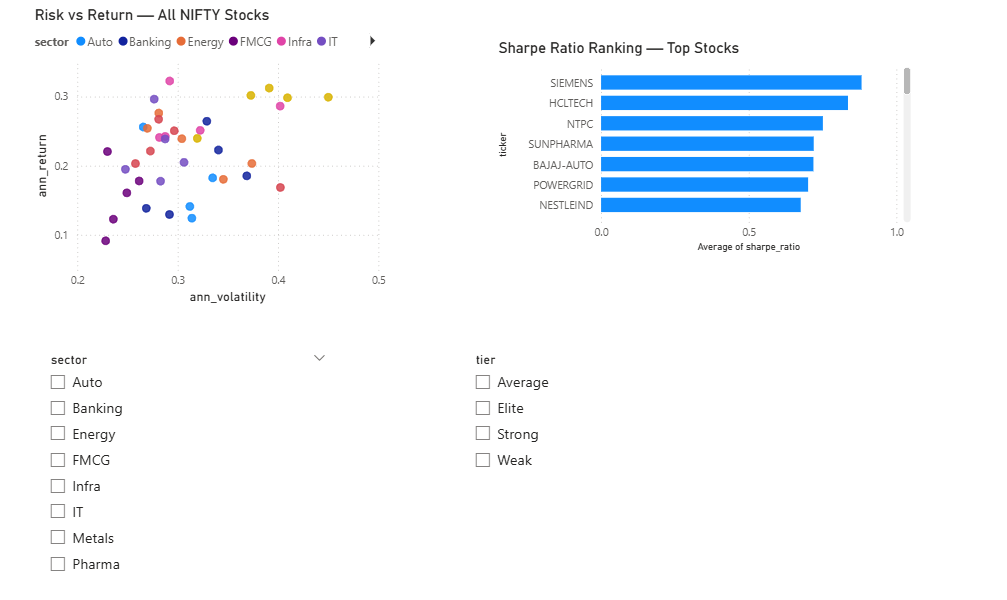

The page's visual inventory and layout, read from the dashboard file:
{"tool":"powerbi","page":{"name":"Page 2","canvas":[1280,720],"ordinal":1},"visuals":[{"type":"scatterChart","title":"Risk vs Return — All NIFTY Stocks","fields":{"X":["stock_metrics.ann_volatility"],"Y":["stock_metrics.ann_return"],"Series":["stock_metrics.sector"]},"box":[62.8,22.3,402.1,337.9],"z":0},{"type":"barChart","title":"Sharpe Ratio Ranking — Top Stocks","fields":{"Category":["stock_metrics.ticker"],"Y":["Avg(stock_metrics.sharpe_ratio)"]},"box":[580.4,59,470.7,244.3],"z":1000},{"type":"slicer","fields":{"Values":["stock_metrics.sector"]},"box":[72.7,403.4,332.1,269],"z":2000},{"type":"slicer","fields":{"Values":["stock_metrics.tier"]},"box":[547.5,403.4,332.1,269],"z":3000}]}

Visuals, with their boxes on the page's 1280x720 design canvas (x1, y1, x2, y2). These are canvas units, not pixel positions in the 1007x600 screenshot, which may show the page scaled, cropped or inside an application window:
"Risk vs Return — All NIFTY Stocks" scatterChart: [63,22,465,360]
"Sharpe Ratio Ranking — Top Stocks" barChart: [580,59,1051,303]
slicer - stock_metrics.sector: [73,403,405,672]
slicer - stock_metrics.tier: [548,403,880,672]
